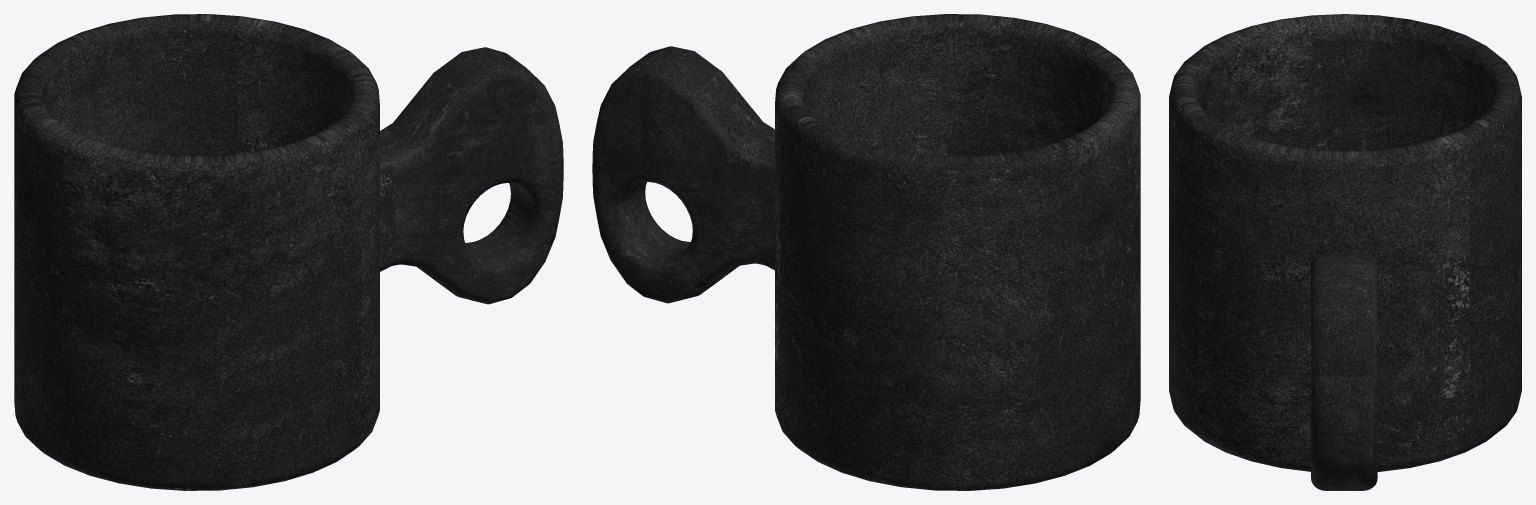
The model's file is boubel_mug.fbx.
3 views of the same model, side by side, from view 1: azimuth 30°, elevation 25°; view 2: azimuth 150°, elevation 25°; view 3: azimuth 270°, elevation 25° (orthographic). The views are drawn at different scales.
Visible parts, largest first — view 1: Cylinder, Cylinder.001; view 2: Cylinder, Cylinder.001; view 3: Cylinder, Cylinder.001.
Boxes of the visible parts, bbox=[...] form: Cylinder: bbox=[14, 14, 379, 490]; Cylinder.001: bbox=[380, 47, 563, 304]; Cylinder: bbox=[775, 14, 1140, 490]; Cylinder.001: bbox=[592, 46, 774, 303]; Cylinder: bbox=[1169, 14, 1521, 471]; Cylinder.001: bbox=[1311, 253, 1377, 490].
Size of the model in its own units: 323 by 200 by 200.
